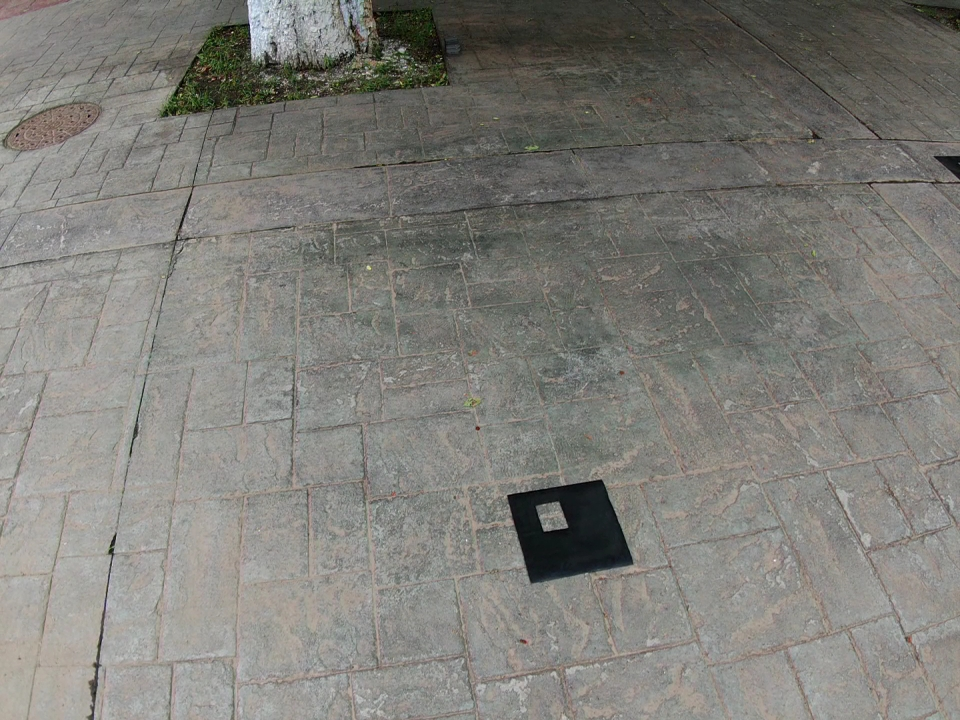qrcode: (507, 480, 634, 584)
